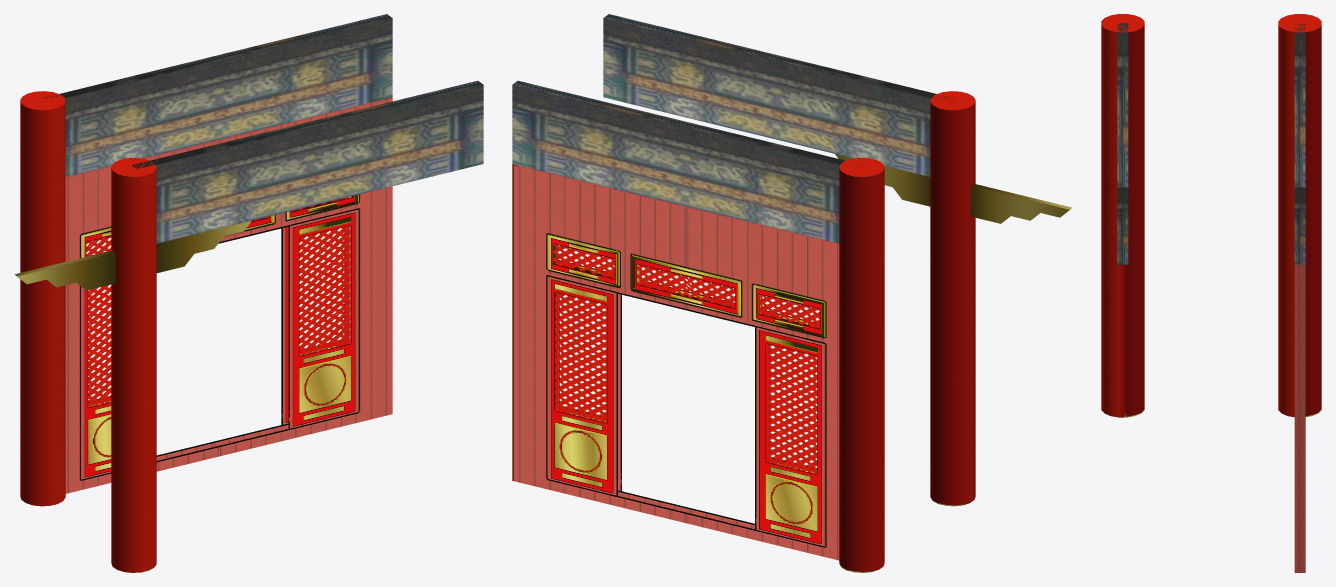
File: coldoor.dae
3 renders of one model, left to right at view 1: azimuth 30°, elevation 25°; view 2: azimuth 150°, elevation 25°; view 3: azimuth 270°, elevation 25°, orthographic. The views are drawn at different scales.
Parts seen in each view (by area): view 1: MainNode; view 2: MainNode; view 3: MainNode.
Boxes of the visible parts, x1=… form: MainNode: x1=14, y1=14, x2=483, y2=572; MainNode: x1=512, y1=14, x2=1072, y2=572; MainNode: x1=1101, y1=14, x2=1321, y2=572.
Size of the model in its own units: 5.9 by 4.8 by 2.49.
1 material, 1 textured.
